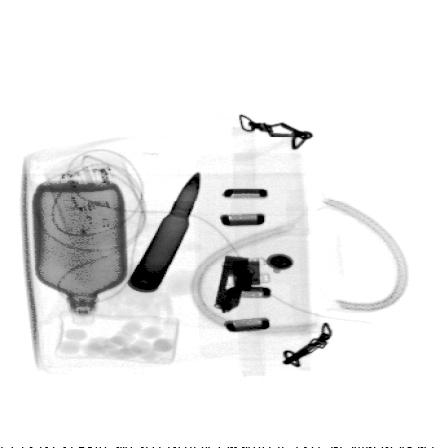Bullet: (129, 171, 202, 291)
